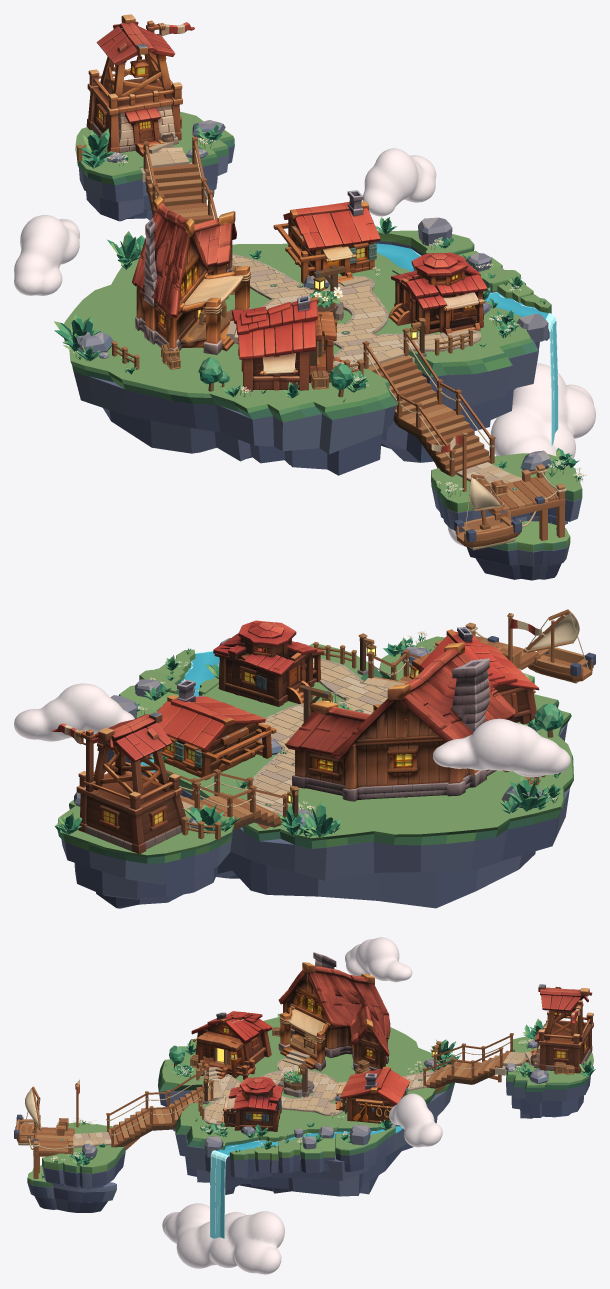
File: village.glb
3 views of the same model, one above another, from view 1: azimuth 30°, elevation 25°; view 2: azimuth 150°, elevation 25°; view 3: azimuth 270°, elevation 25° (orthographic). The views are drawn at different scales.
Parts seen in each view (by area): view 1: object 6, object 1, B01, object 4, B05, B02, object 3, B03, B04, Cloud_FallBase, Cloud_UpperLeft, Cloud_Right (+3 smaller); view 2: object 6, B01, object 4, B05, B03, B04, object 1, Cloud_UpperLeft, Cloud_Right, B02, object 3, object 5 (+1 smaller); view 3: object 6, object 1, B01, object 4, Cloud_FallBase, object 3, B02, B05, object 5, B03, B04, Cloud_UpperLeft (+2 smaller).
Part boxes in pixels (left/top/right/bottom): object 6: left=64, top=243, right=548, bottom=490; object 1: left=329, top=328, right=586, bottom=580; B01: left=132, top=195, right=250, bottom=354; object 4: left=75, top=111, right=234, bottom=269; B05: left=86, top=14, right=194, bottom=156; B02: left=232, top=295, right=343, bottom=391; object 3: left=199, top=217, right=548, bottom=398; B03: left=273, top=190, right=380, bottom=284; B04: left=388, top=252, right=487, bottom=334; Cloud_FallBase: left=447, top=363, right=595, bottom=545; Cloud_UpperLeft: left=14, top=215, right=79, bottom=295; Cloud_Right: left=362, top=148, right=436, bottom=216; object 6: left=140, top=643, right=573, bottom=908; B01: left=285, top=642, right=515, bottom=801; object 4: left=55, top=769, right=341, bottom=908; B05: left=51, top=712, right=189, bottom=853; B03: left=157, top=680, right=276, bottom=780; B04: left=213, top=620, right=324, bottom=706; object 1: left=367, top=609, right=595, bottom=689; Cloud_UpperLeft: left=433, top=718, right=570, bottom=777; Cloud_Right: left=14, top=683, right=134, bottom=741; B02: left=409, top=627, right=539, bottom=724; object 3: left=106, top=633, right=564, bottom=829; object 5: left=110, top=648, right=212, bottom=718; object 6: left=59, top=1017, right=454, bottom=1196; object 1: left=14, top=1045, right=214, bottom=1212; B01: left=278, top=952, right=390, bottom=1071; object 4: left=422, top=1018, right=595, bottom=1118; Cloud_FallBase: left=162, top=1203, right=284, bottom=1274; object 3: left=181, top=1033, right=438, bottom=1171; B02: left=190, top=1011, right=272, bottom=1079; B05: left=526, top=984, right=593, bottom=1073; object 5: left=211, top=1124, right=370, bottom=1233; B03: left=335, top=1066, right=410, bottom=1123; B04: left=220, top=1076, right=283, bottom=1131; Cloud_UpperLeft: left=345, top=937, right=412, bottom=982.
Bounding box in the file's own units: 20.16 × 12.3 × 28.04.
41 materials, 5 textured.
